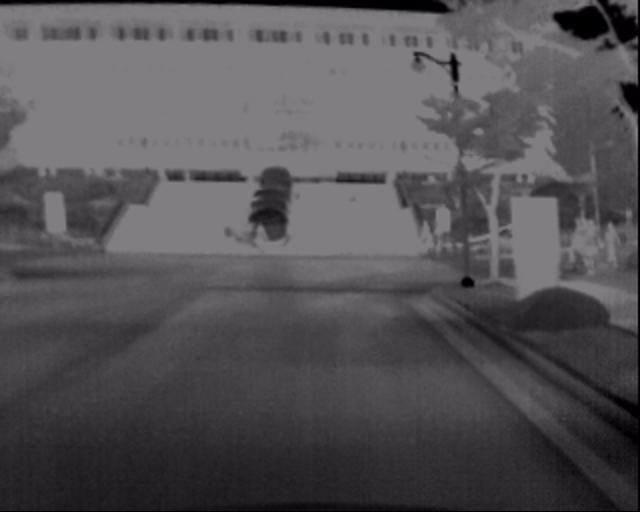person: (550, 209, 622, 279), (338, 177, 362, 217), (249, 212, 269, 257), (219, 214, 240, 256)
